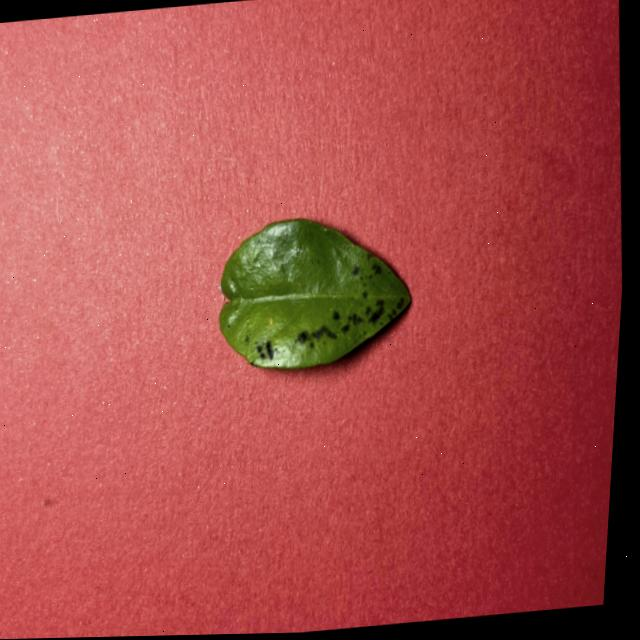sooty_mold: (218, 218, 409, 367)
